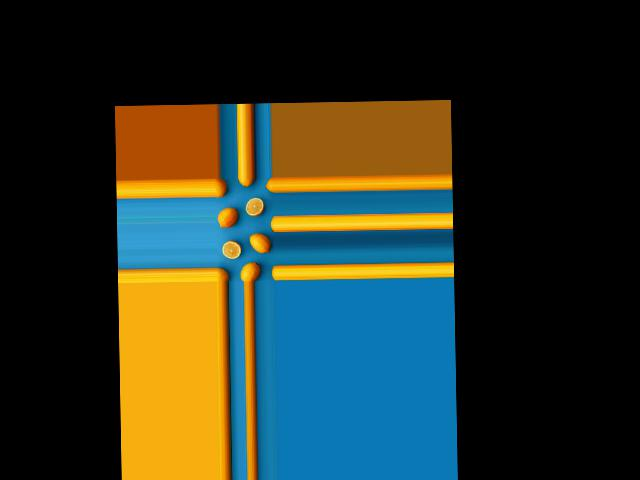lemon: (217, 265, 231, 283)
